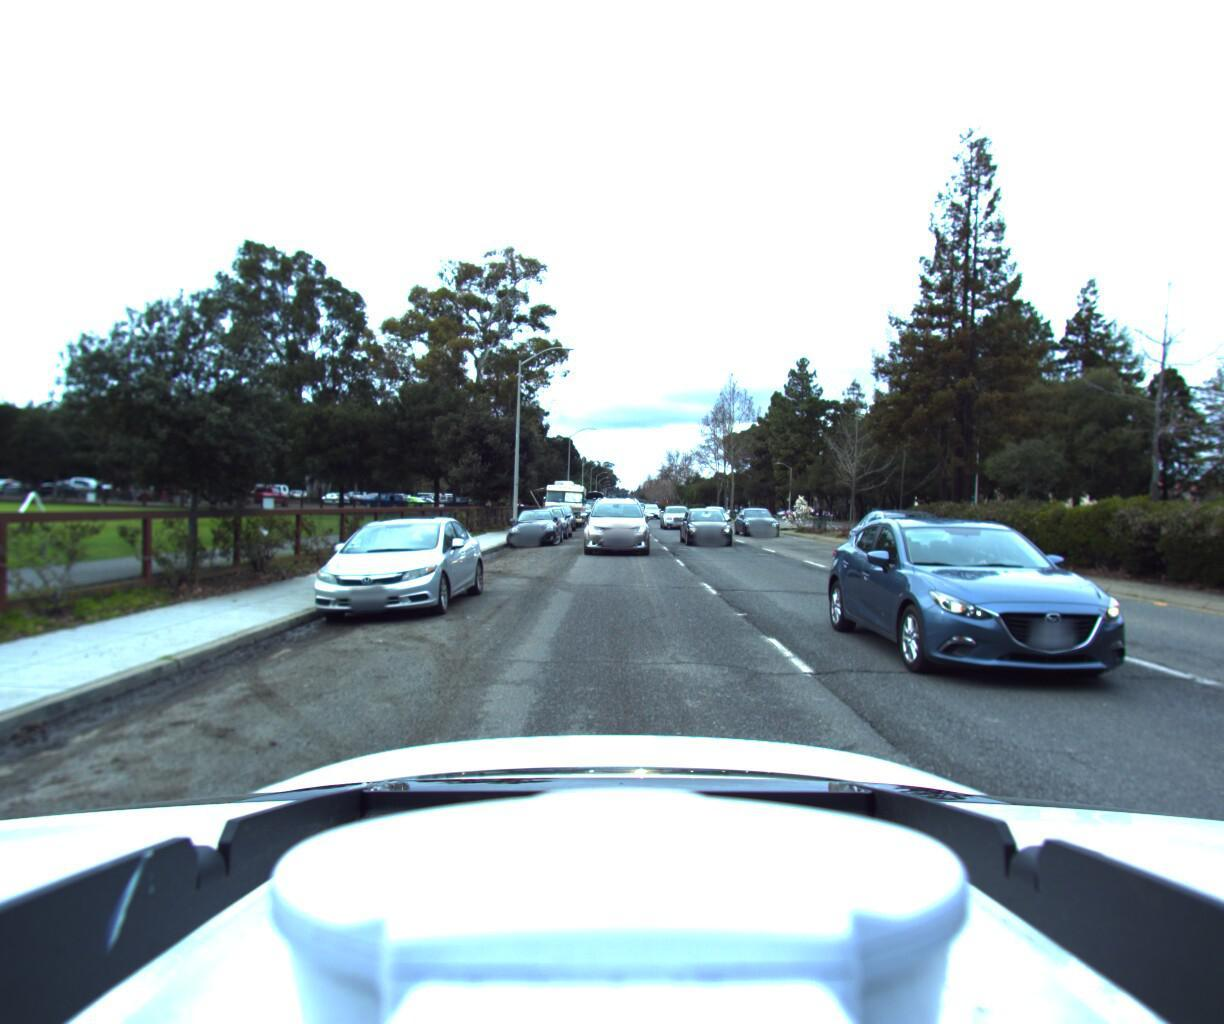car: (840, 510, 1224, 745), (296, 510, 488, 631), (852, 502, 1007, 584), (577, 491, 655, 558), (681, 506, 745, 548), (504, 505, 563, 548), (519, 503, 572, 540), (733, 501, 788, 536), (658, 503, 693, 532), (642, 501, 660, 517)
other_vehicle: (538, 475, 588, 529)
